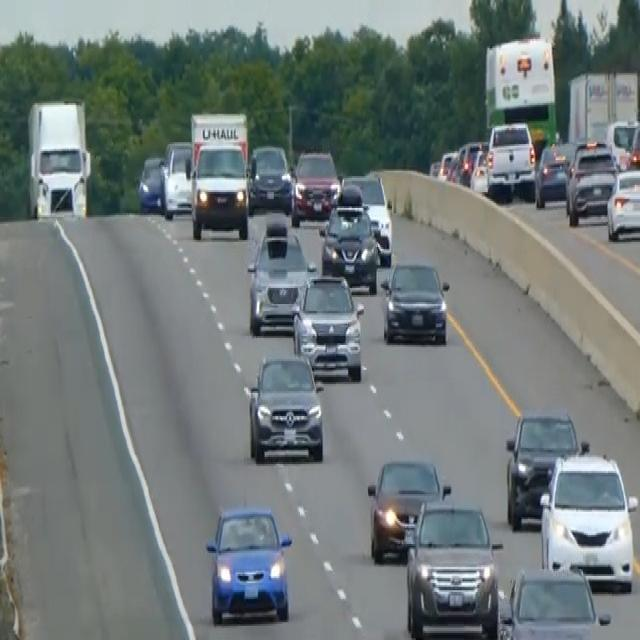car: (404, 491, 501, 638), (539, 448, 637, 592), (204, 501, 292, 624), (504, 407, 582, 530), (244, 350, 324, 462), (366, 455, 447, 562), (497, 564, 610, 638), (290, 270, 364, 380), (246, 222, 314, 334), (380, 258, 450, 345), (319, 198, 380, 292), (340, 171, 393, 263), (565, 137, 617, 226), (485, 119, 536, 199), (290, 148, 340, 224), (247, 142, 292, 214), (534, 139, 578, 208), (159, 139, 193, 217), (606, 164, 639, 242), (605, 117, 639, 169), (137, 153, 164, 211), (451, 139, 485, 185), (469, 144, 489, 194), (625, 119, 639, 171), (436, 150, 457, 180)
lorry: (25, 94, 93, 220)
minivan: (189, 139, 249, 240)
